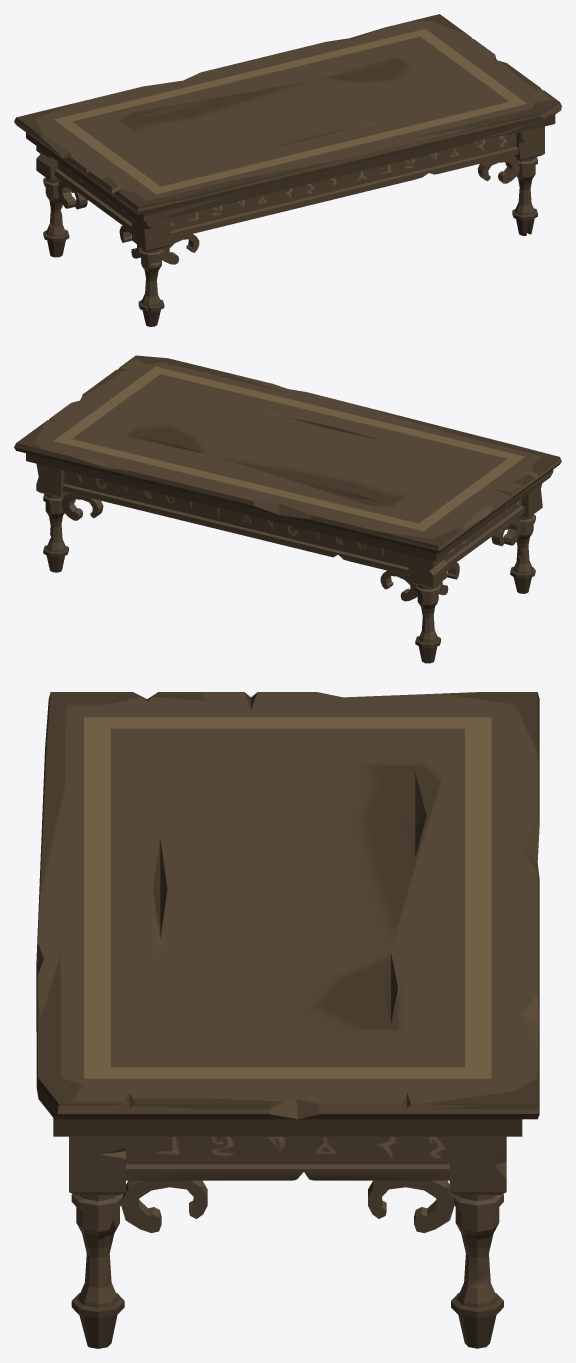
Rendered from crypt_table.gltf.
3 views of the same model, one above another, from view 1: azimuth 30°, elevation 25°; view 2: azimuth 150°, elevation 25°; view 3: azimuth 270°, elevation 25° (orthographic). The views are drawn at different scales.
Visible parts, largest first — view 1: crypt_table; view 2: crypt_table; view 3: crypt_table.
Boxes of the visible parts, <box> form: crypt_table: <box>14,14,561,326</box>; crypt_table: <box>14,355,561,663</box>; crypt_table: <box>36,692,539,1348</box>.
Size of the model in its own units: 2.64 by 0.7838 by 1.36.
1 material, 1 textured.
